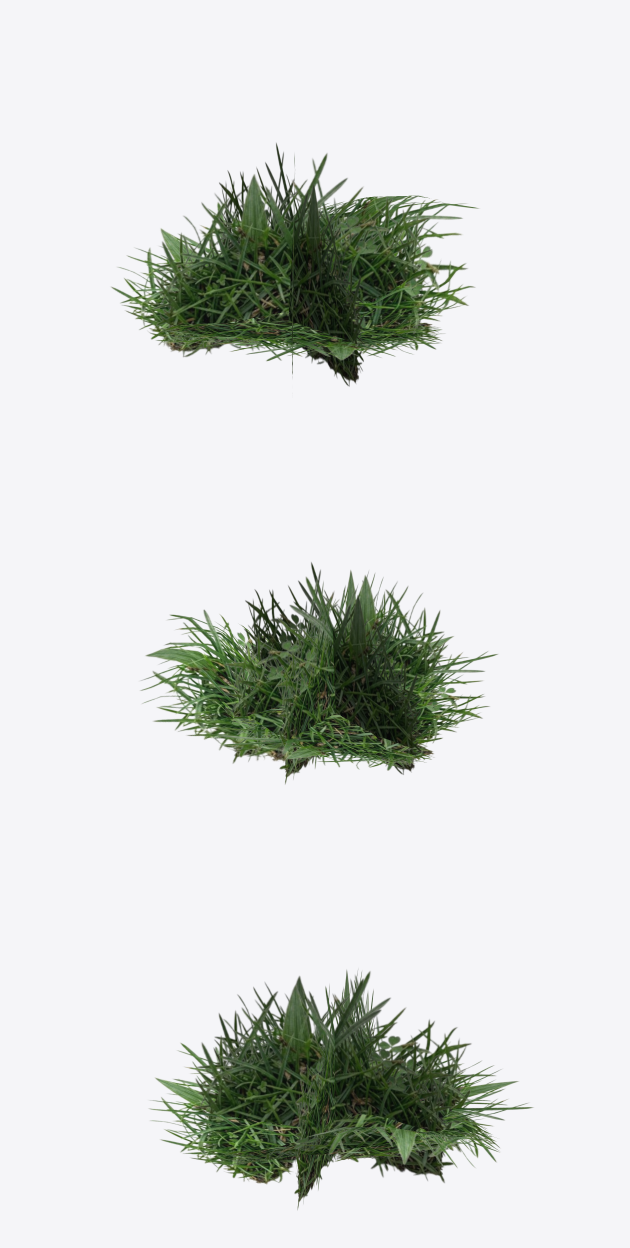
File: planta.glb
3 renders of one model, top to bottom at view 1: azimuth 30°, elevation 25°; view 2: azimuth 150°, elevation 25°; view 3: azimuth 270°, elevation 25°, orthographic. The views are drawn at different scales.
Visible parts, largest first — view 1: image-removebg-preview.002; view 2: image-removebg-preview.002; view 3: image-removebg-preview.002.
Part boxes in pixels (bbox=[...]): image-removebg-preview.002: bbox=[110, 143, 479, 386]; image-removebg-preview.002: bbox=[139, 562, 498, 784]; image-removebg-preview.002: bbox=[148, 969, 533, 1209].
Size of the model in its own units: 1.85 by 1.01 by 1.97.
Materials: 1 (1 with a texture image).
